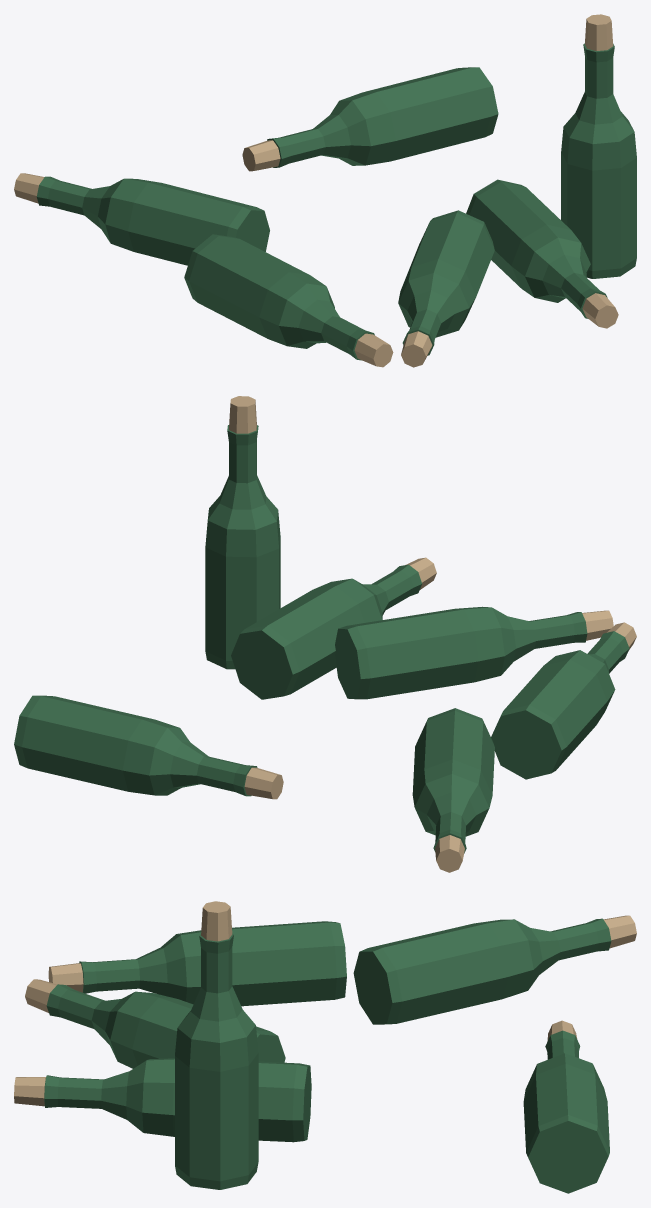
The model's file is Bottle1.fbx.
The picture shows the model from 3 angles, top to bottom: view 1: azimuth 30°, elevation 25°; view 2: azimuth 150°, elevation 25°; view 3: azimuth 270°, elevation 25°; orthographic projection. The views are drawn at different scales.
Parts seen in each view (by area): view 1: Bottle6; view 2: Bottle6; view 3: Bottle6.
Part boxes in pixels (x1=…): Bottle6: x1=14, y1=14, x2=636, y2=367; Bottle6: x1=14, y1=396, x2=636, y2=872; Bottle6: x1=14, y1=901, x2=636, y2=1193.
Size of the model in its own units: 179 by 94.66 by 201.
